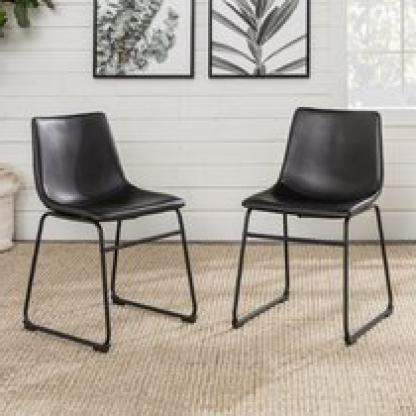chair: (10, 103, 198, 356), (230, 102, 407, 347)
